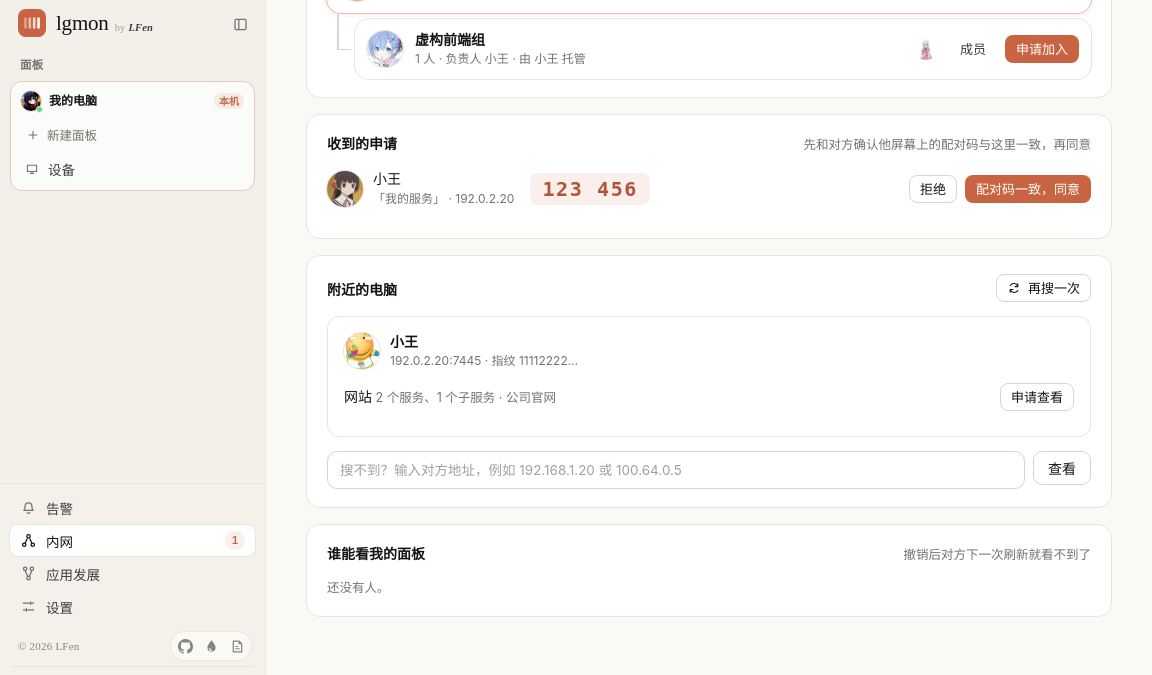
Test: finds a nearby board and asks to view it with the fingerprint seen in discovery
The width and height of the screenshot is (1152, 675).
(page scrolled)
Expected: the text "网站" is shown, [344,388,372,405]
Expected: the text "2 个服务、1 个子服务 · 公司官网" is shown, [372,390,556,405]
Click the button "申请查看" at (1037, 397), box [1000,383,1074,411]
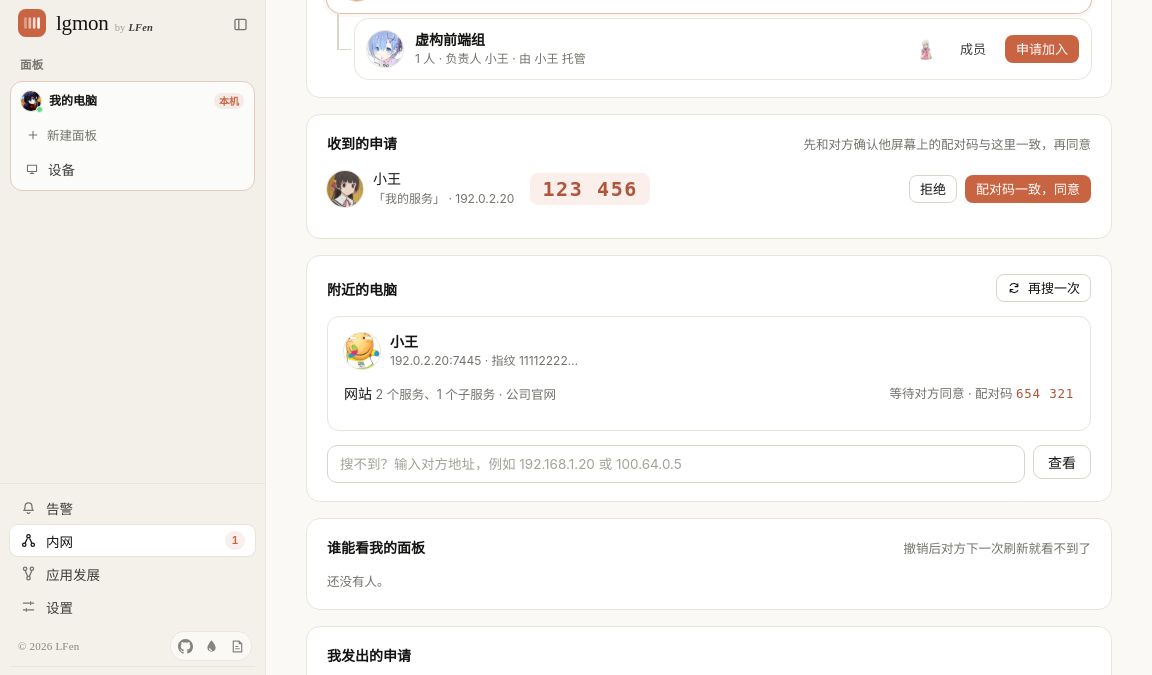
Expected: the element named "等待对方同意，配对码 654 321" is shown, [889,384,1074,404]
